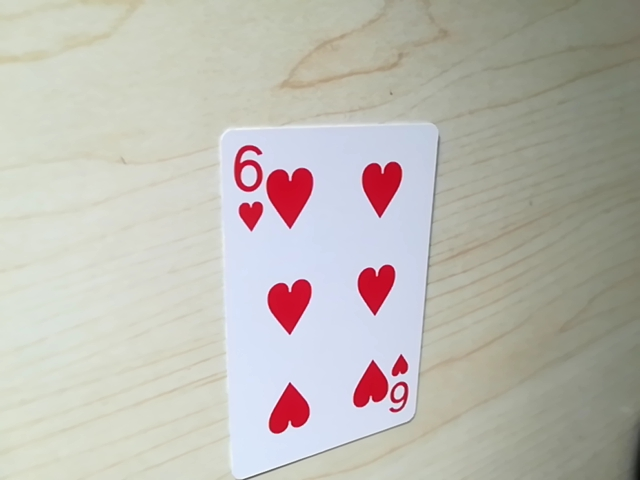hx 6: (372, 362, 415, 421), (226, 138, 265, 195)
